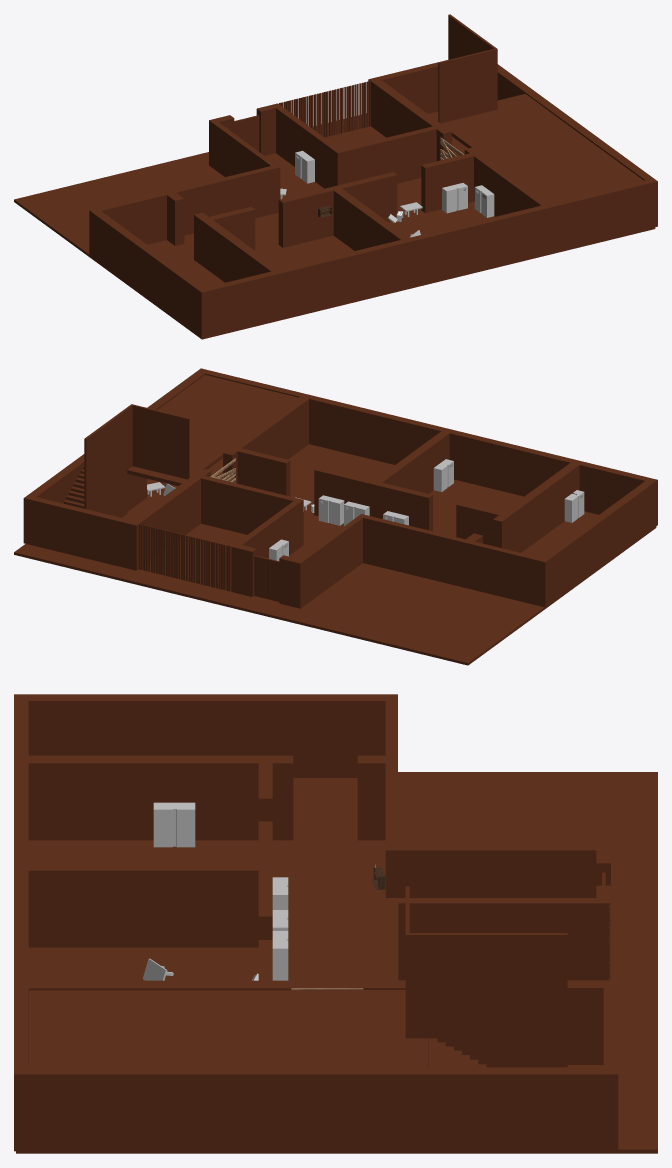
Rendered from level1_Atualizado.fbx.
The picture shows the model from 3 angles, top to bottom: view 1: azimuth 30°, elevation 25°; view 2: azimuth 150°, elevation 25°; view 3: azimuth 270°, elevation 25°; orthographic projection. The views are drawn at different scales.
Parts seen in each view (by area): view 1: plantaCasa, Chao, escadas; view 2: plantaCasa, Chao, escadas; view 3: plantaCasa, Chao, escadas, cacifos.017, cacifos.018, cacifos.027.
Boxes of the visible parts, left/top/right/bottom form: plantaCasa: left=89, top=60, right=657, bottom=337; Chao: left=14, top=111, right=655, bottom=339; escadas: left=434, top=14, right=643, bottom=203; plantaCasa: left=23, top=368, right=657, bottom=608; Chao: left=14, top=444, right=656, bottom=665; escadas: left=63, top=375, right=297, bottom=517; plantaCasa: left=14, top=694, right=618, bottom=1151; Chao: left=16, top=772, right=657, bottom=1153; escadas: left=29, top=886, right=567, bottom=1067; cacifos.017: left=153, top=802, right=174, bottom=847; cacifos.018: left=174, top=802, right=195, bottom=847; cacifos.027: left=272, top=939, right=288, bottom=980.
Size of the model in its own units: 4296 by 969 by 3077.
